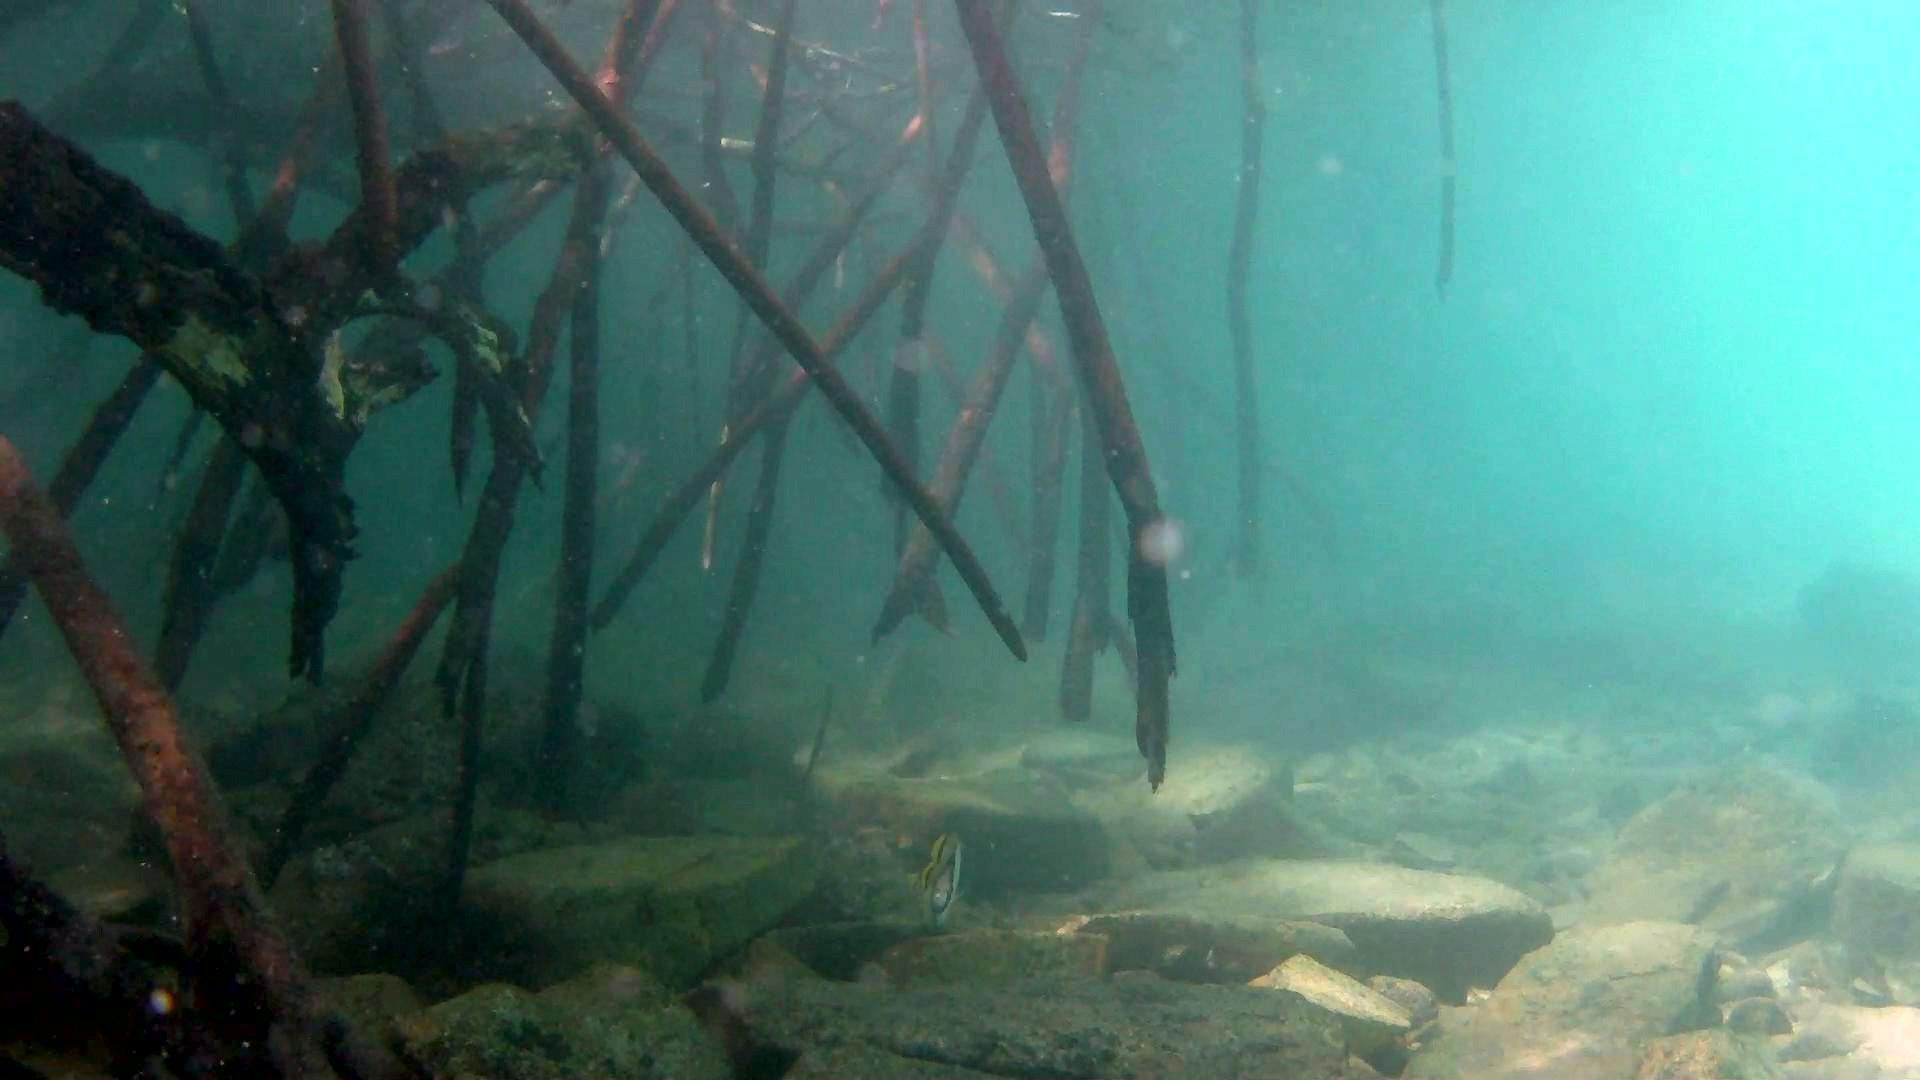chaetodon vagabundus: (914, 828, 965, 935)
